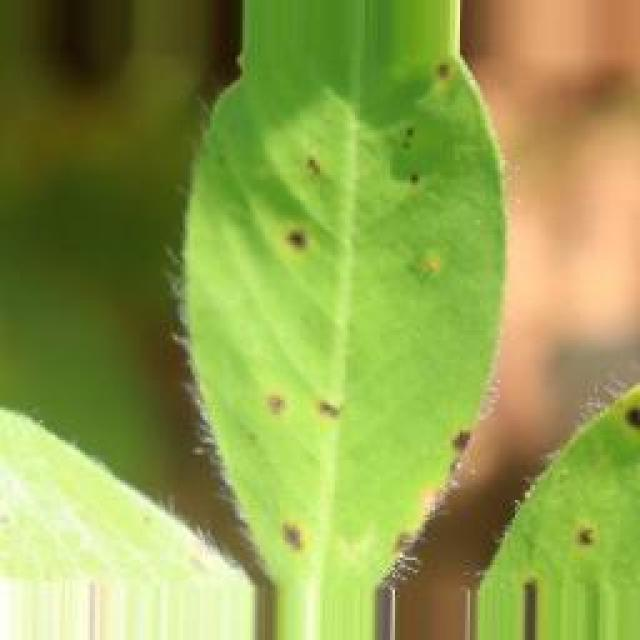Sigatoka: (263, 384, 357, 448), (538, 509, 615, 578), (262, 516, 336, 574), (400, 240, 454, 303), (420, 40, 468, 110), (387, 116, 432, 188), (373, 513, 419, 569), (287, 142, 333, 193), (275, 213, 316, 264), (618, 380, 640, 457), (440, 416, 480, 457)
